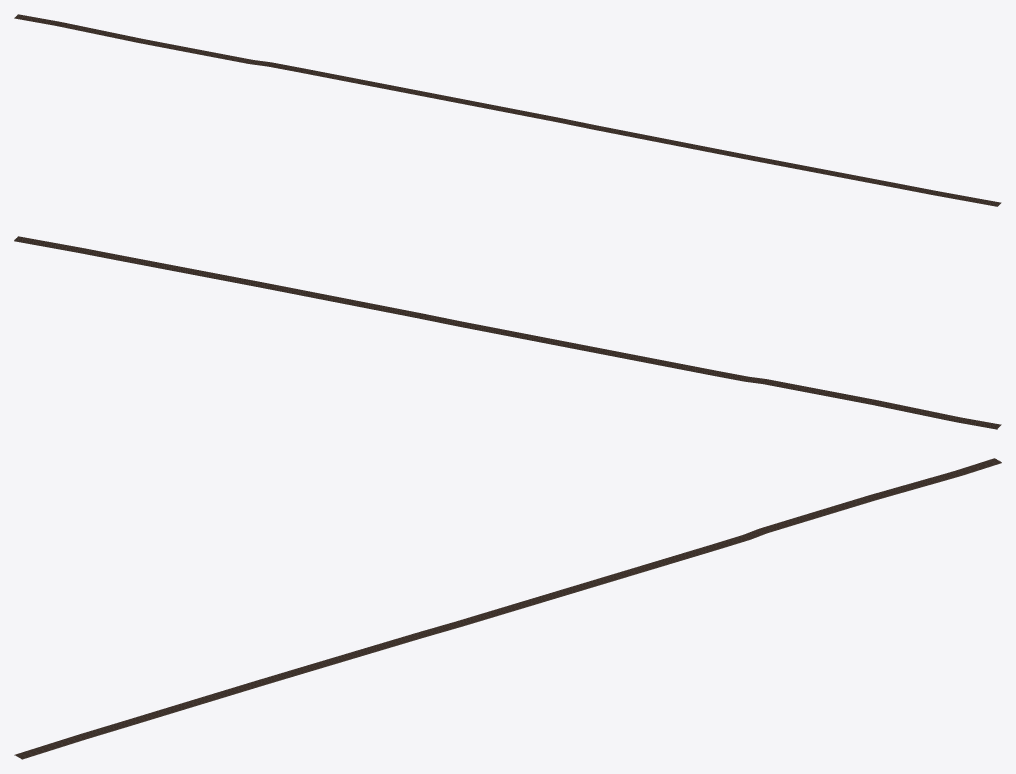
The model's file is kobe_0005.glb.
3 views of the same model, one above another, from view 1: azimuth 30°, elevation 25°; view 2: azimuth 210°, elevation 25°; view 3: azimuth 270°, elevation 25° (orthographic). The views are drawn at different scales.
Visible parts, largest first — view 1: ballast_top, oxidised_rail_profiles; view 2: ballast_top, oxidised_rail_profiles, ballast_left; view 3: ballast_top, oxidised_rail_profiles, ballast_left.
Part boxes in pixels (left/top/right/bottom): ballast_top: left=14, top=14, right=1001, bottom=206; oxidised_rail_profiles: left=15, top=14, right=1000, bottom=205; ballast_top: left=14, top=236, right=1000, bottom=428; oxidised_rail_profiles: left=15, top=236, right=1000, bottom=427; ballast_left: left=14, top=240, right=997, bottom=429; ballast_top: left=15, top=458, right=1001, bottom=758; oxidised_rail_profiles: left=16, top=458, right=1000, bottom=757; ballast_left: left=21, top=462, right=1001, bottom=759.
Size of the model in its own units: 446 by 0.819 by 619.
4 materials, 3 textured.
